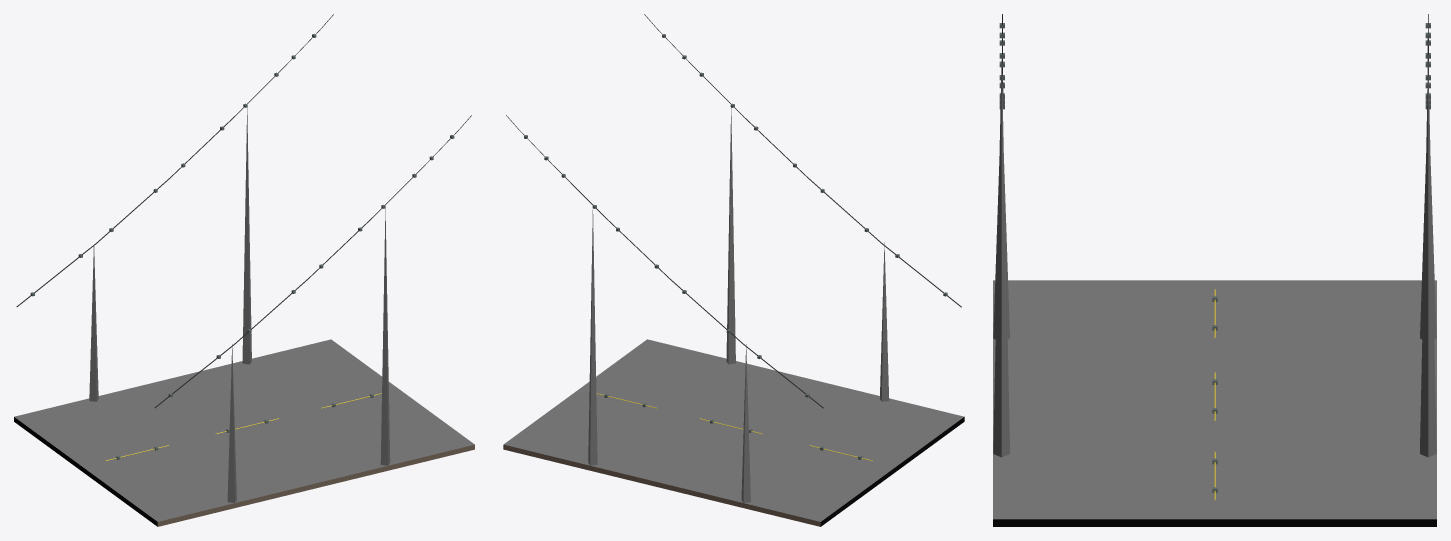
3 views of the same model, side by side, from view 1: azimuth 30°, elevation 25°; view 2: azimuth 150°, elevation 25°; view 3: azimuth 270°, elevation 25° (orthographic). The views are drawn at different scales.
Parts seen in each view (by area): view 1: BR84F | archived geometry, BR84F | line, light and sprite surfaces; view 2: BR84F | archived geometry, BR84F | line, light and sprite surfaces; view 3: BR84F | archived geometry, Fitted street and landscape details.
Part boxes in pixels (x1,y1,x2,y2): BR84F | archived geometry: (14,107,474,526); BR84F | line, light and sprite surfaces: (16,14,471,460); BR84F | archived geometry: (503,108,964,526); BR84F | line, light and sprite surfaces: (506,14,961,461); BR84F | archived geometry: (993,58,1436,526); Fitted street and landscape details: (999,23,1430,492).
Bounding box in the file's own units: 16.58 × 16.58 × 13.
